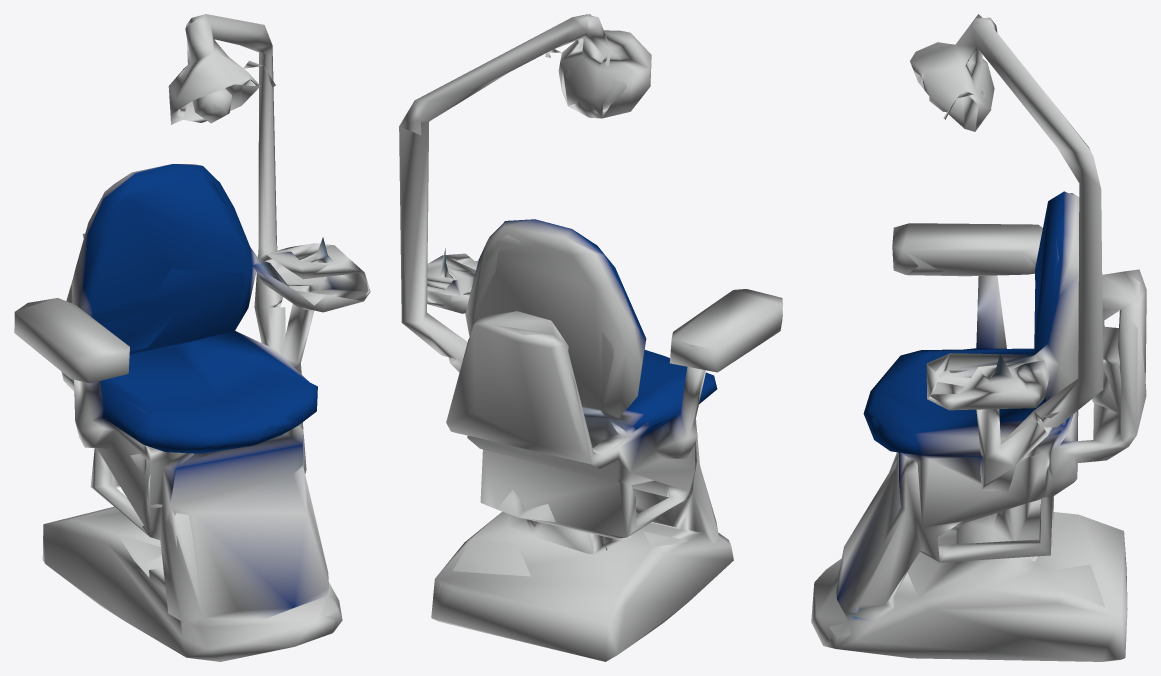
Rendered from gen3d-dentist-chair-lod1.glb.
3 renders of one model, left to right at view 1: azimuth 30°, elevation 25°; view 2: azimuth 150°, elevation 25°; view 3: azimuth 270°, elevation 25°, orthographic. The views are drawn at different scales.
Visible parts, largest first — view 1: part_0; view 2: part_0; view 3: part_0.
Boxes of the visible parts, x1,y1,x2,y2 form: part_0: [14, 14, 370, 661]; part_0: [399, 14, 782, 661]; part_0: [811, 14, 1146, 661].
Bounding box in the file's own units: 0.5747 × 0.993 × 0.5038.
